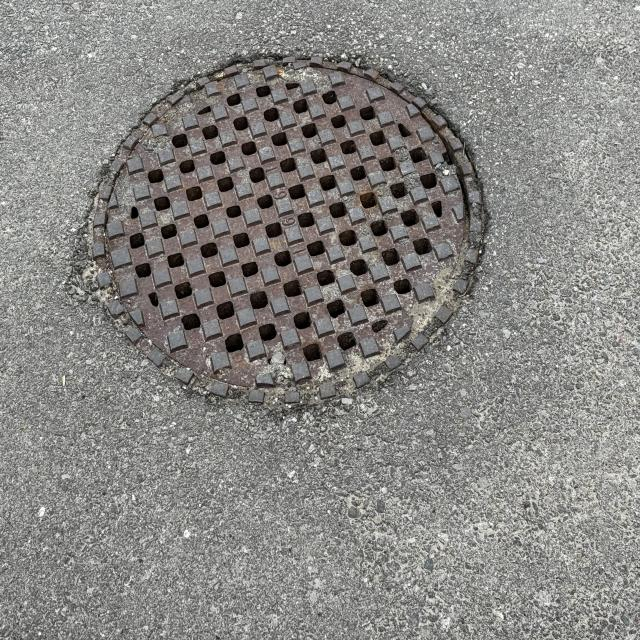Manhole: (84, 52, 490, 413)
